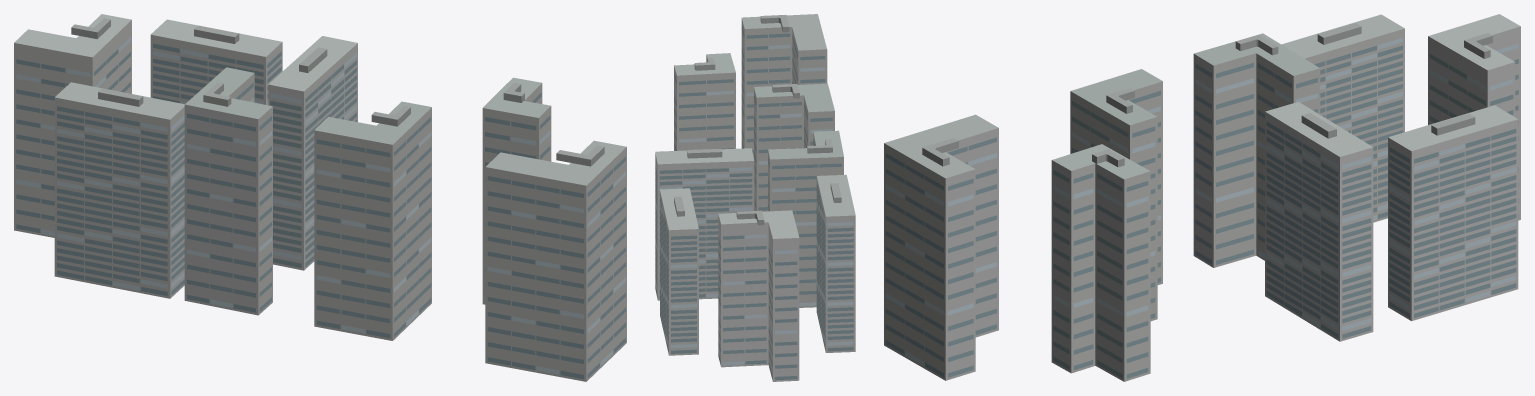
File: apt-a13880407.glb
The picture shows the model from 3 angles, left to right: view 1: azimuth 30°, elevation 25°; view 2: azimuth 150°, elevation 25°; view 3: azimuth 270°, elevation 25°; orthographic projection. The views are drawn at different scales.
Visible parts, largest first — view 1: apt-a13880407; view 2: apt-a13880407; view 3: apt-a13880407.
Part boxes in pixels (box(x1,y1,x2,y2)): apt-a13880407: box(14, 14, 626, 381); apt-a13880407: box(655, 14, 855, 381); apt-a13880407: box(884, 14, 1520, 381).
Size of the model in its own units: 133 by 71 by 196.
